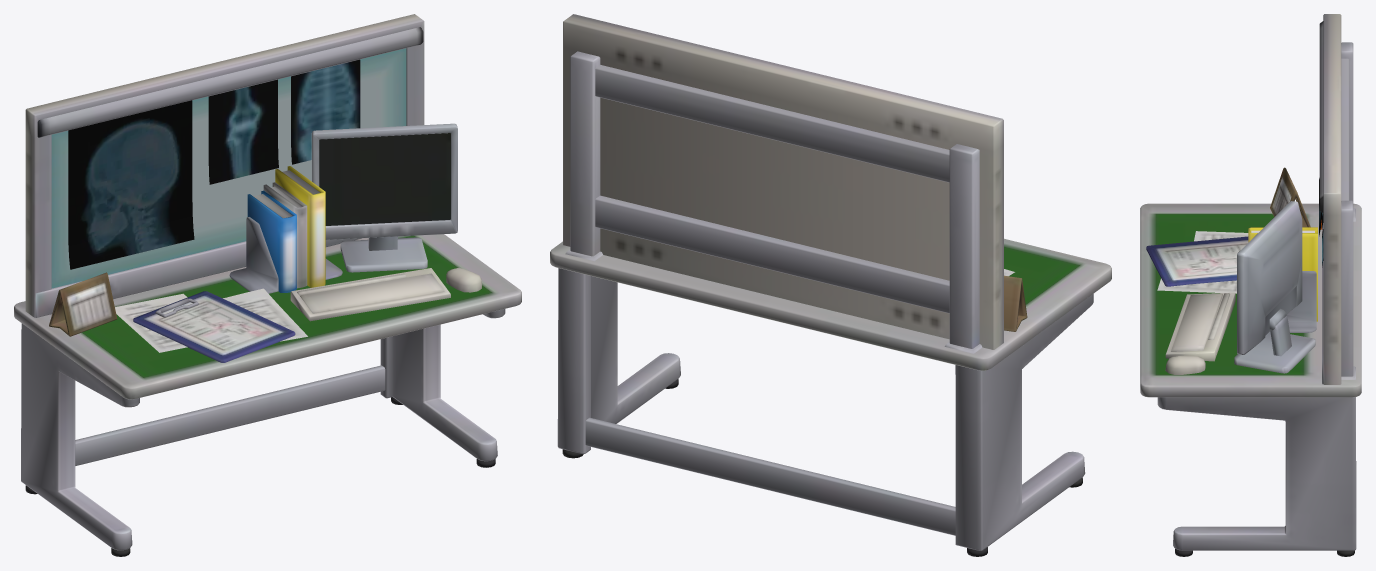
The picture shows the model from 3 angles, left to right: view 1: azimuth 30°, elevation 25°; view 2: azimuth 150°, elevation 25°; view 3: azimuth 270°, elevation 25°; orthographic projection. The views are drawn at different scales.
Size of the model in its own units: 18.11 by 16.8 by 9.22.
Materials: 3 (3 with a texture image).
